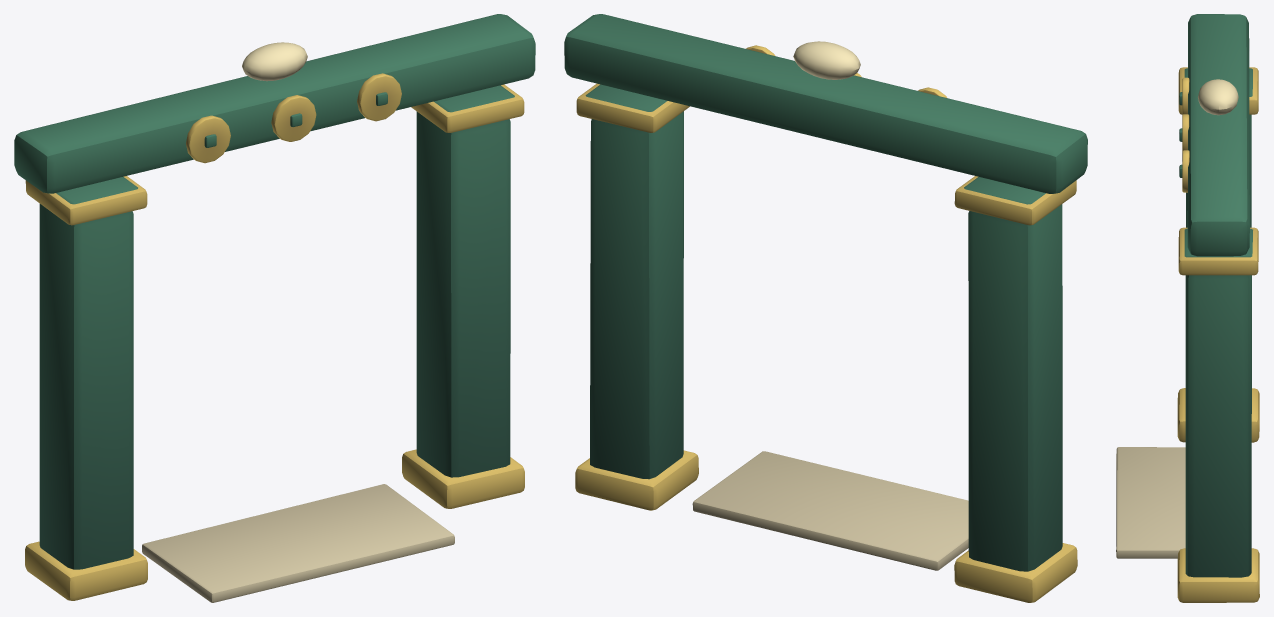
The picture shows the model from 3 angles, left to right: view 1: azimuth 30°, elevation 25°; view 2: azimuth 150°, elevation 25°; view 3: azimuth 270°, elevation 25°; orthographic projection. The views are drawn at different scales.
Parts seen in each view (by area): view 1: gate_04b122e0; view 2: gate_04b122e0; view 3: gate_04b122e0.
Part boxes in pixels (x1,y1,x2,y2): gate_04b122e0: (14, 14, 535, 602); gate_04b122e0: (564, 14, 1087, 602); gate_04b122e0: (1116, 14, 1259, 602).
Size of the model in its own units: 4.86 by 4.56 by 1.4.
